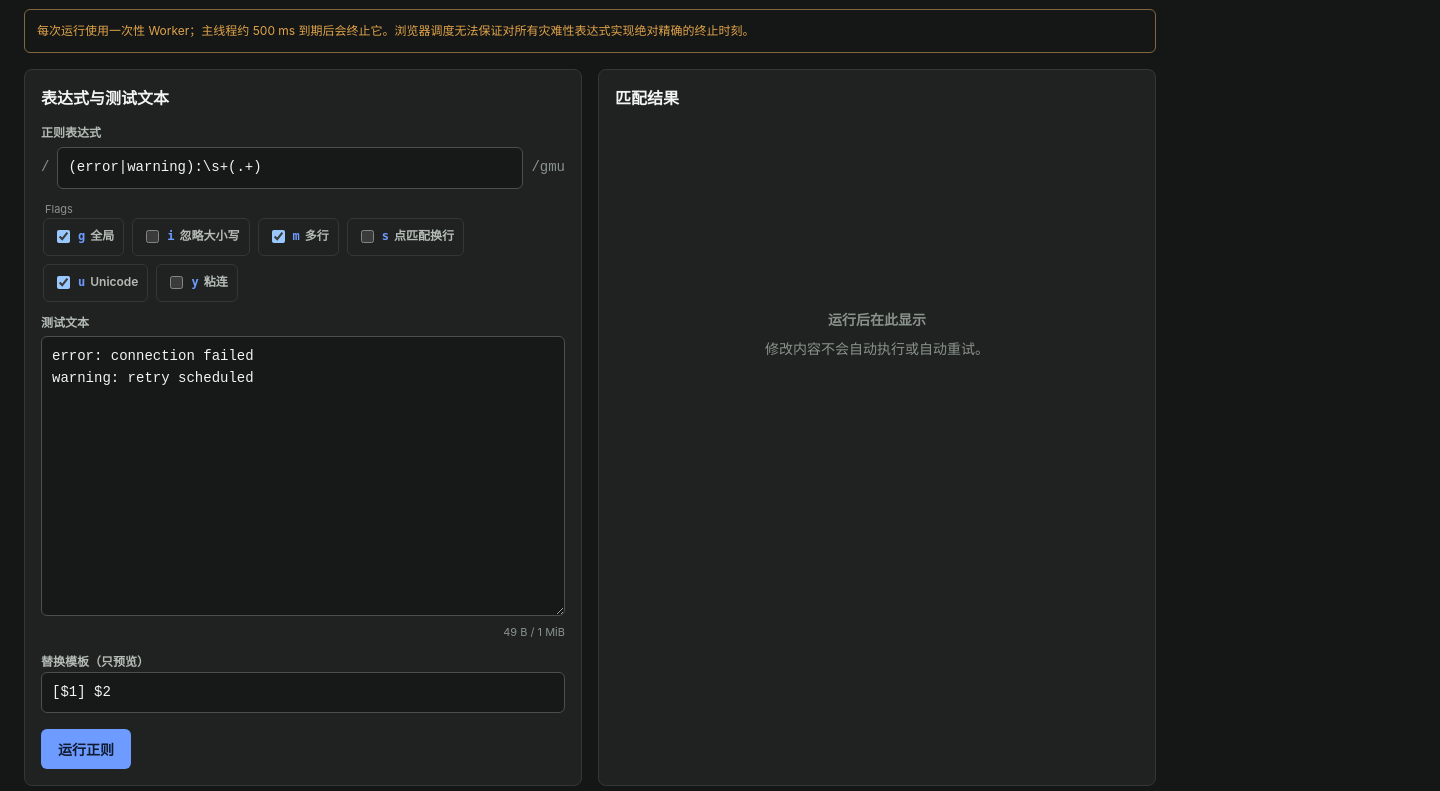
Test: RegexToolView replacement preview copy › provides no copy entry when the replacement preview is omitted by the match limit
(page scrolled)
Click the button with class "button--primary".
click(86, 749)  # box [41, 729, 131, 769]
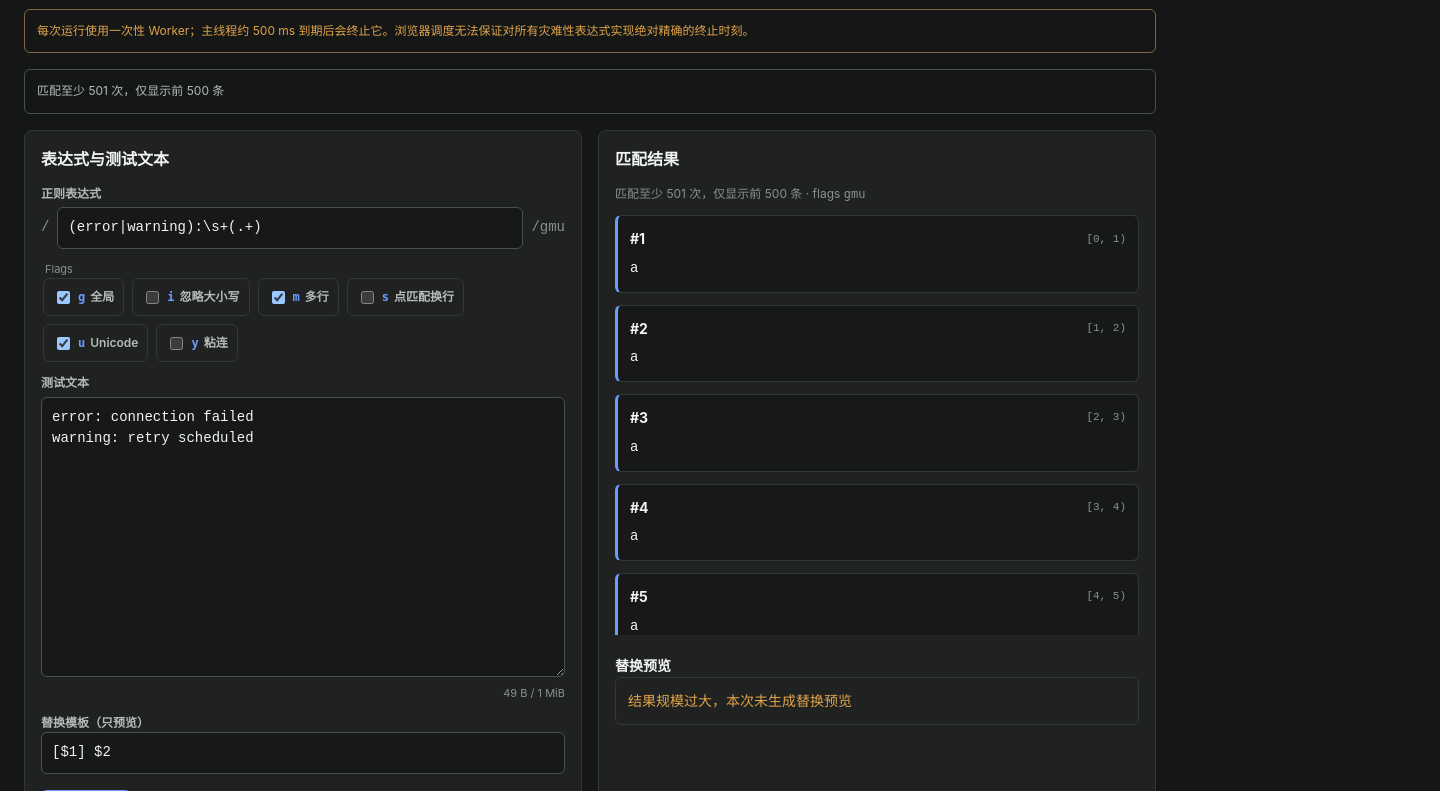
Expected: the heading "替换预览" is shown, [615, 655, 671, 677]
Expected: the text "结果规模过大，本次未生成替换预览" is shown, [615, 677, 1139, 725]
